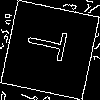T: (25, 25, 78, 64)
